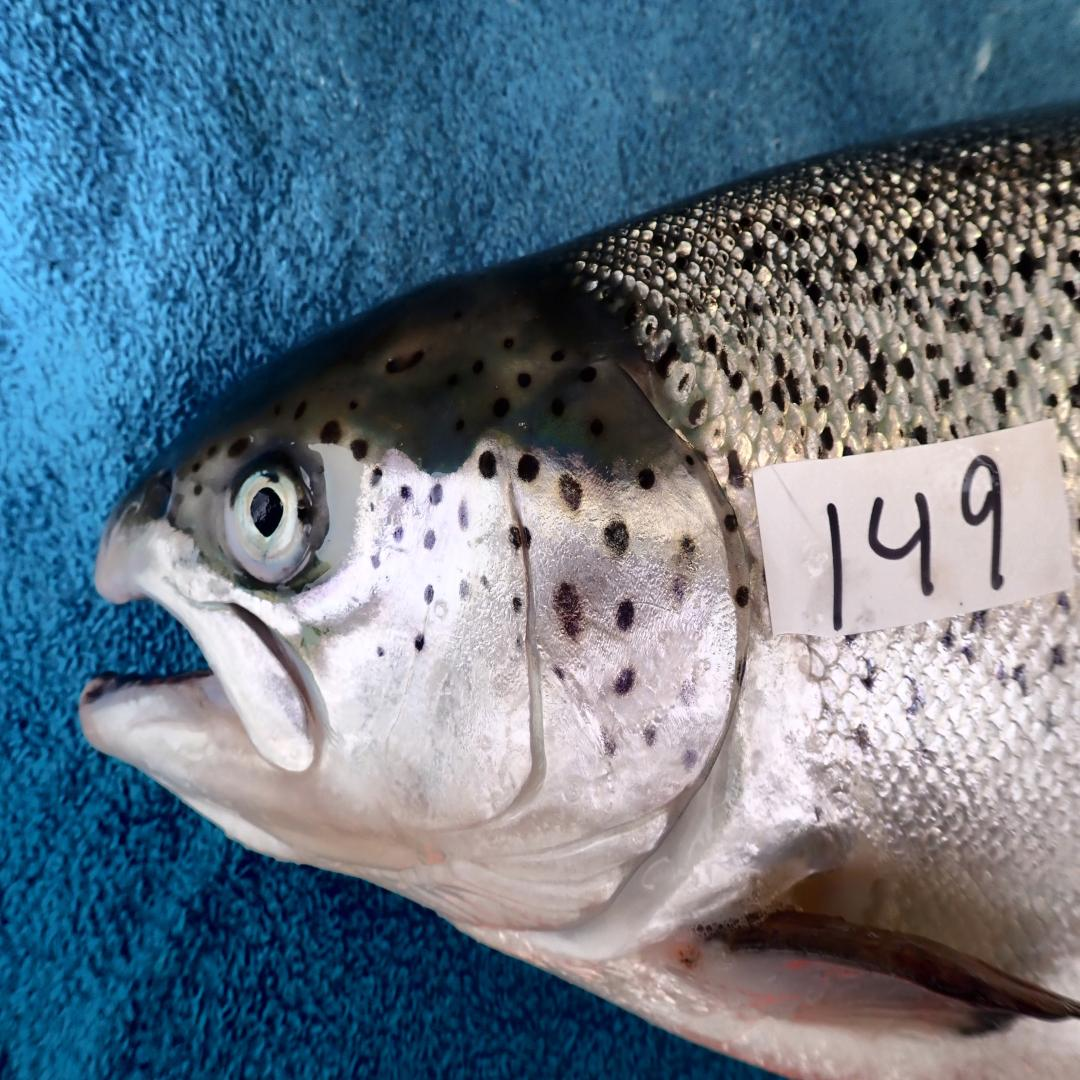spot: (553, 582, 582, 638), (603, 520, 629, 557), (559, 472, 582, 512), (517, 453, 540, 481), (616, 599, 635, 630), (614, 669, 635, 695), (601, 725, 617, 756), (479, 450, 496, 478), (637, 467, 656, 489), (733, 585, 750, 607), (682, 681, 696, 706), (681, 534, 696, 557), (428, 484, 443, 506), (673, 577, 686, 602), (458, 501, 468, 529), (643, 726, 655, 747), (424, 529, 437, 548), (683, 751, 696, 770), (509, 525, 520, 547), (400, 483, 413, 501), (424, 585, 435, 605), (373, 465, 383, 485), (524, 525, 532, 548), (460, 579, 468, 599), (394, 526, 403, 543), (554, 666, 564, 681), (511, 597, 521, 611), (370, 555, 380, 568), (416, 636, 424, 650), (482, 574, 489, 590), (377, 646, 384, 658), (516, 635, 522, 648), (369, 501, 375, 511)
